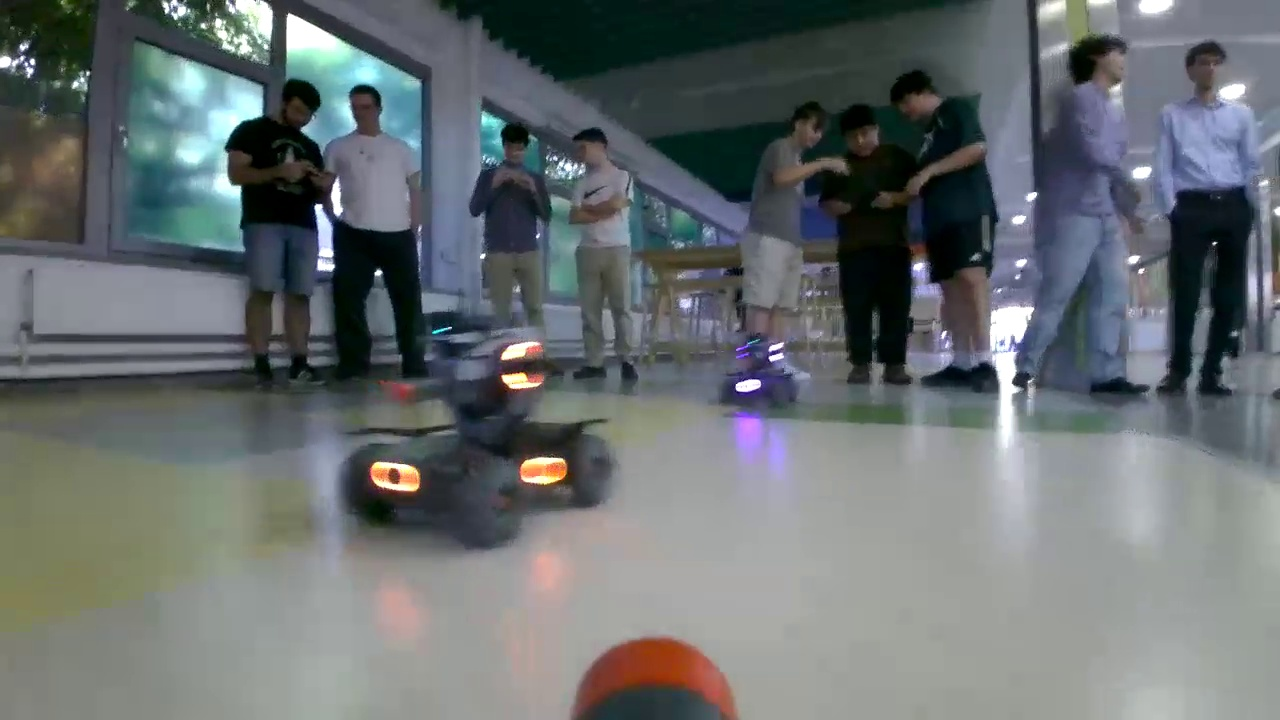robot: (342, 318, 620, 547), (718, 342, 800, 413)
